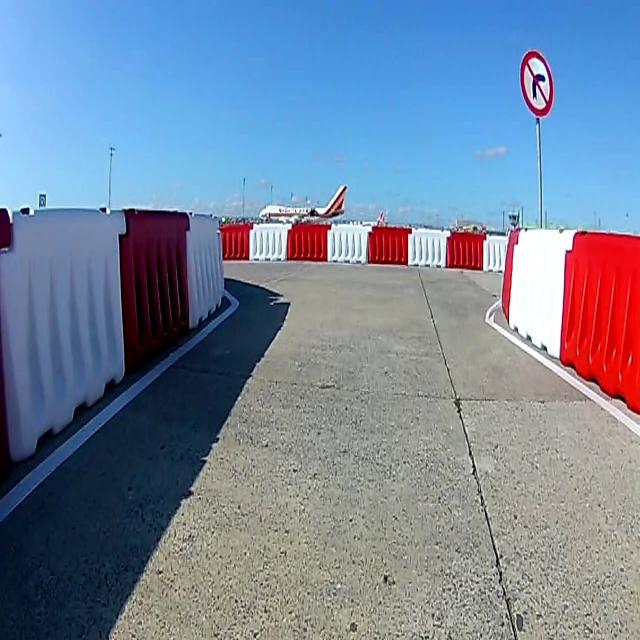sagadonulmez: (520, 50, 554, 118)
